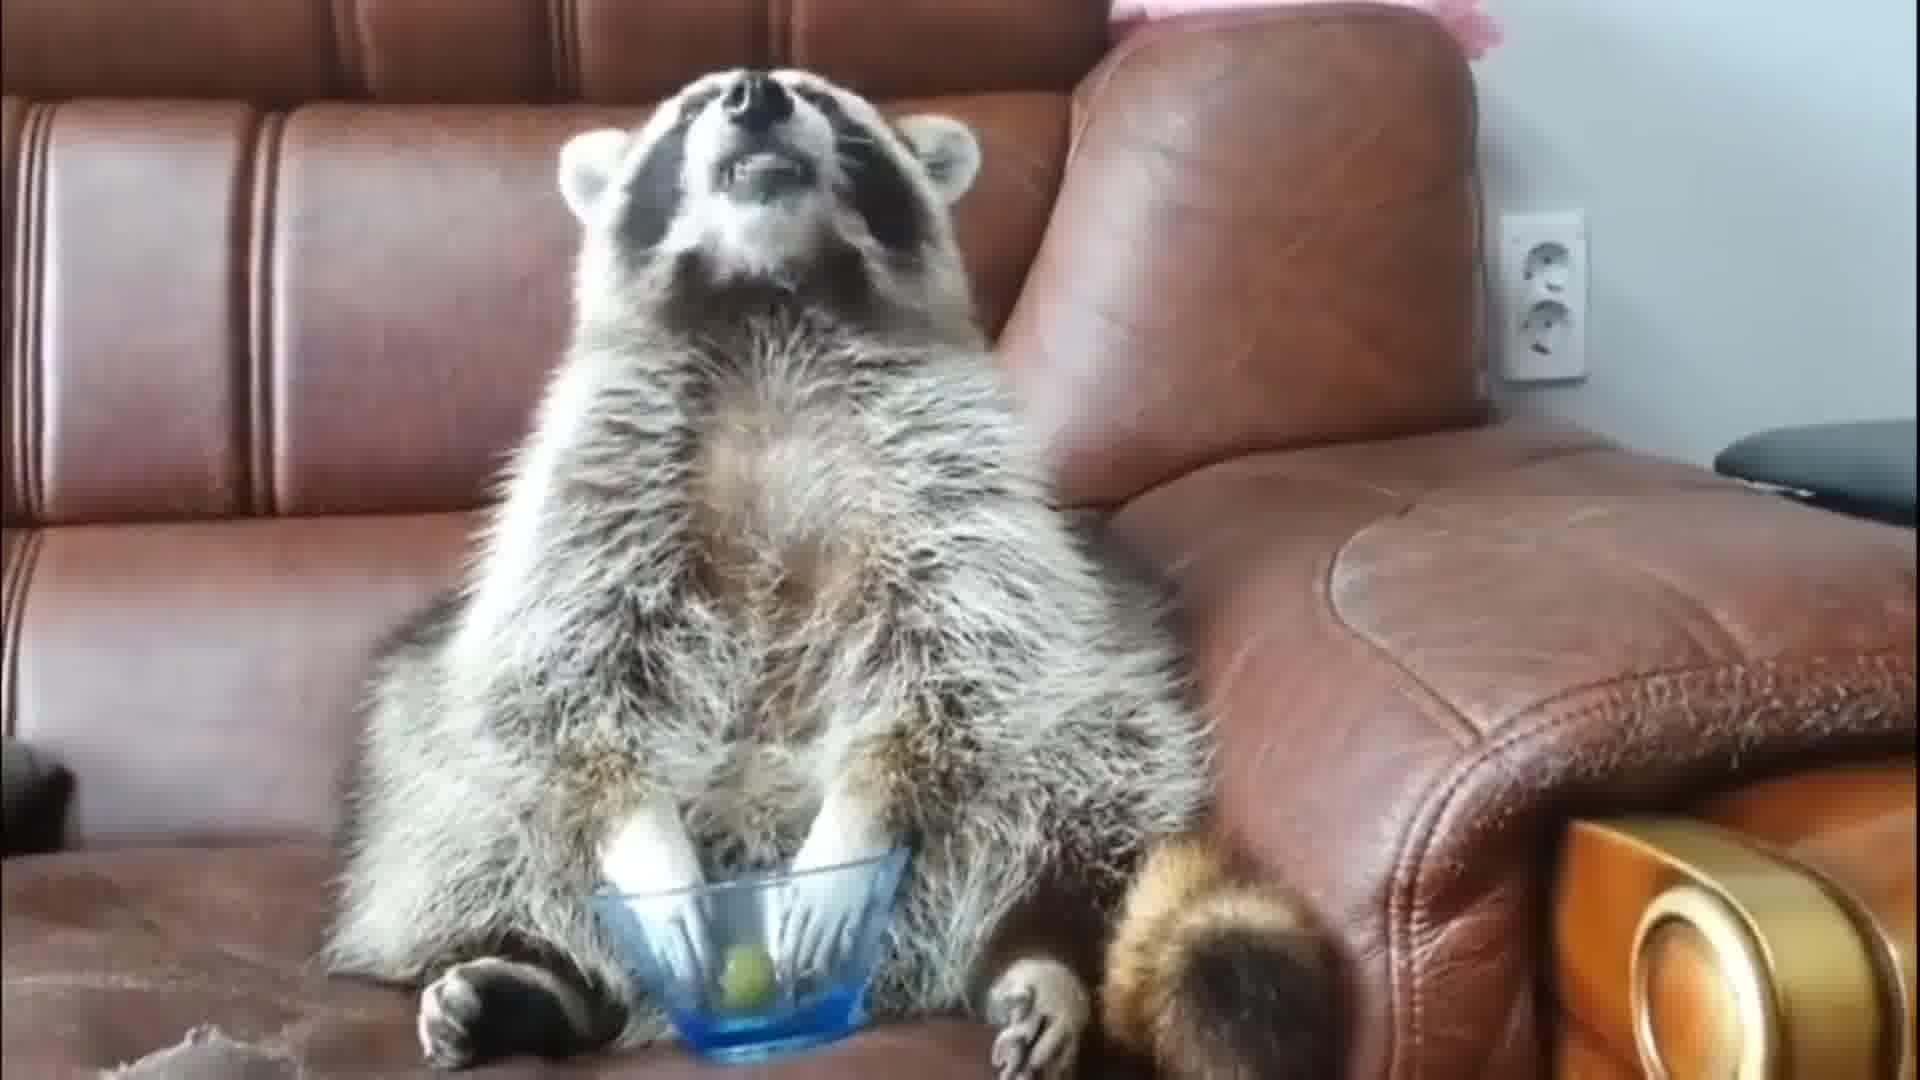raccoon: (320, 62, 1345, 1080)
